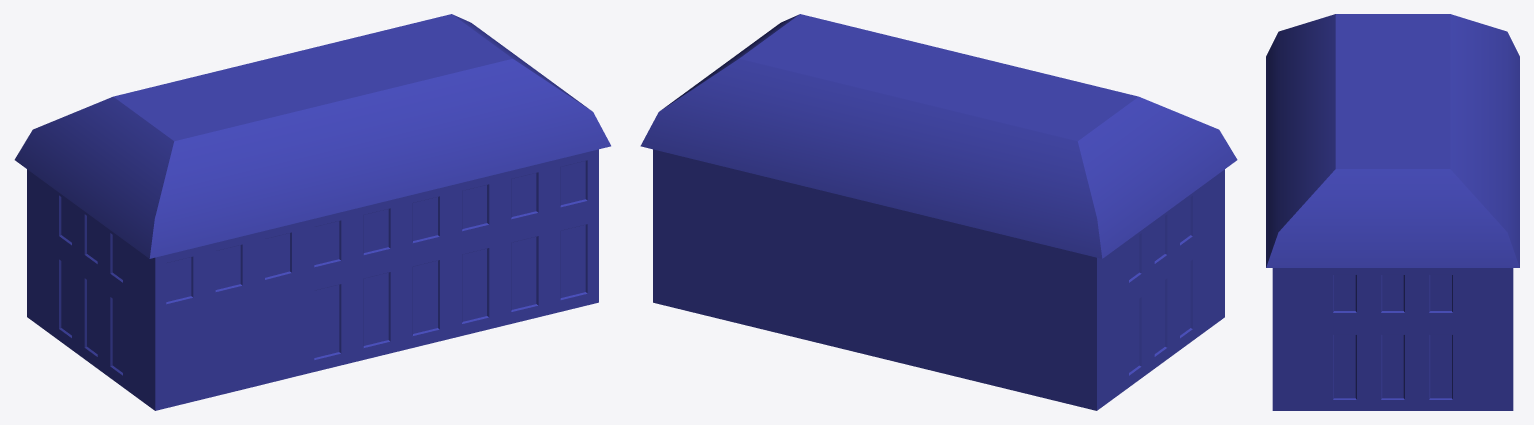
Rendered from dollhouse.FBX.
3 views of the same model, side by side, from view 1: azimuth 30°, elevation 25°; view 2: azimuth 150°, elevation 25°; view 3: azimuth 270°, elevation 25° (orthographic). The views are drawn at different scales.
Visible parts, largest first — view 1: main, dollhouseRoof; view 2: main, dollhouseRoof; view 3: dollhouseRoof, main.
Boxes of the visible parts, x1,y1,x2,y2 form: main: (27, 149, 598, 410); dollhouseRoof: (14, 14, 610, 258); main: (653, 149, 1224, 410); dollhouseRoof: (640, 14, 1237, 258); dollhouseRoof: (1266, 14, 1519, 267); main: (1272, 268, 1513, 410).
Bounding box in the file's own units: 8.33 × 4 × 4.22.
